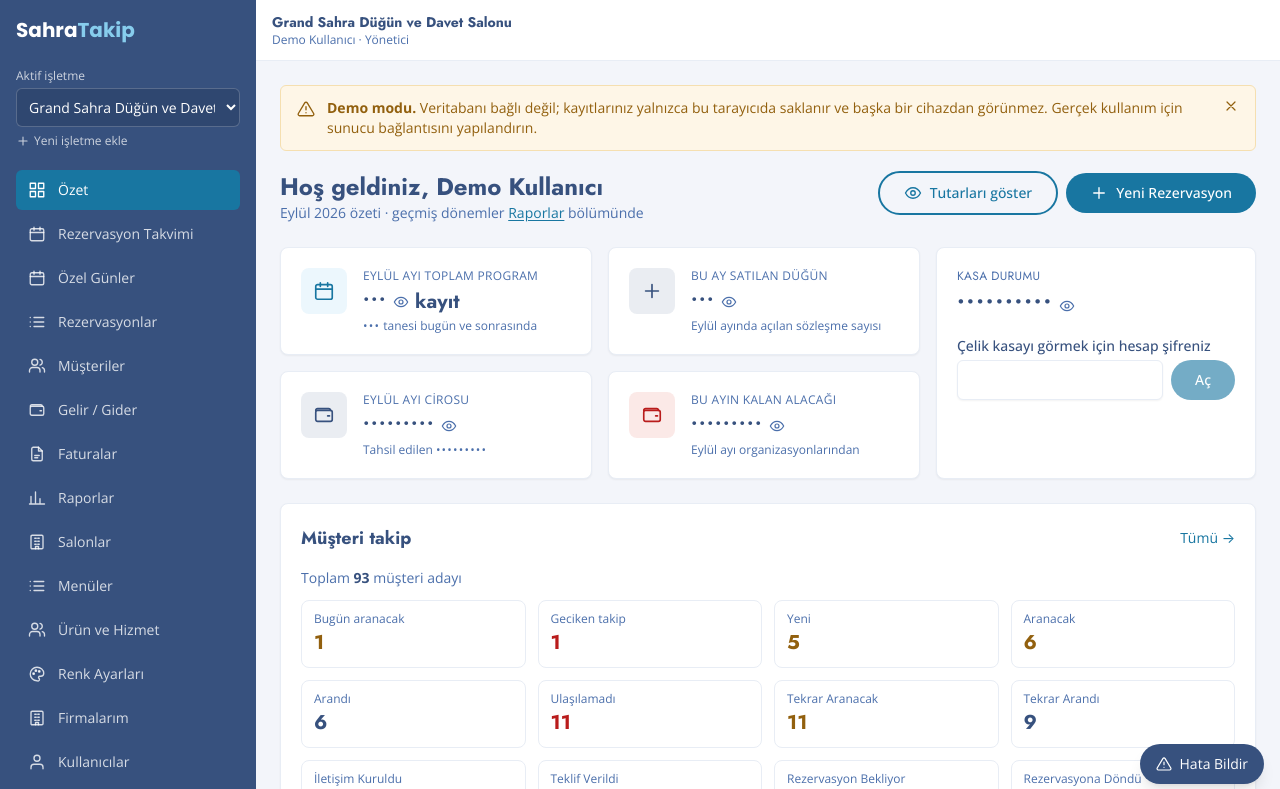
Özet ekranı › imleç üstüne gelince o tutar açılıyor
Expected: the heading "Hoş geldiniz, Demo Kullanıcı" is shown, [280,171,644,203]
Hover over the button named "Gizli tutar:" at (375, 302), box [363,287,387,316]
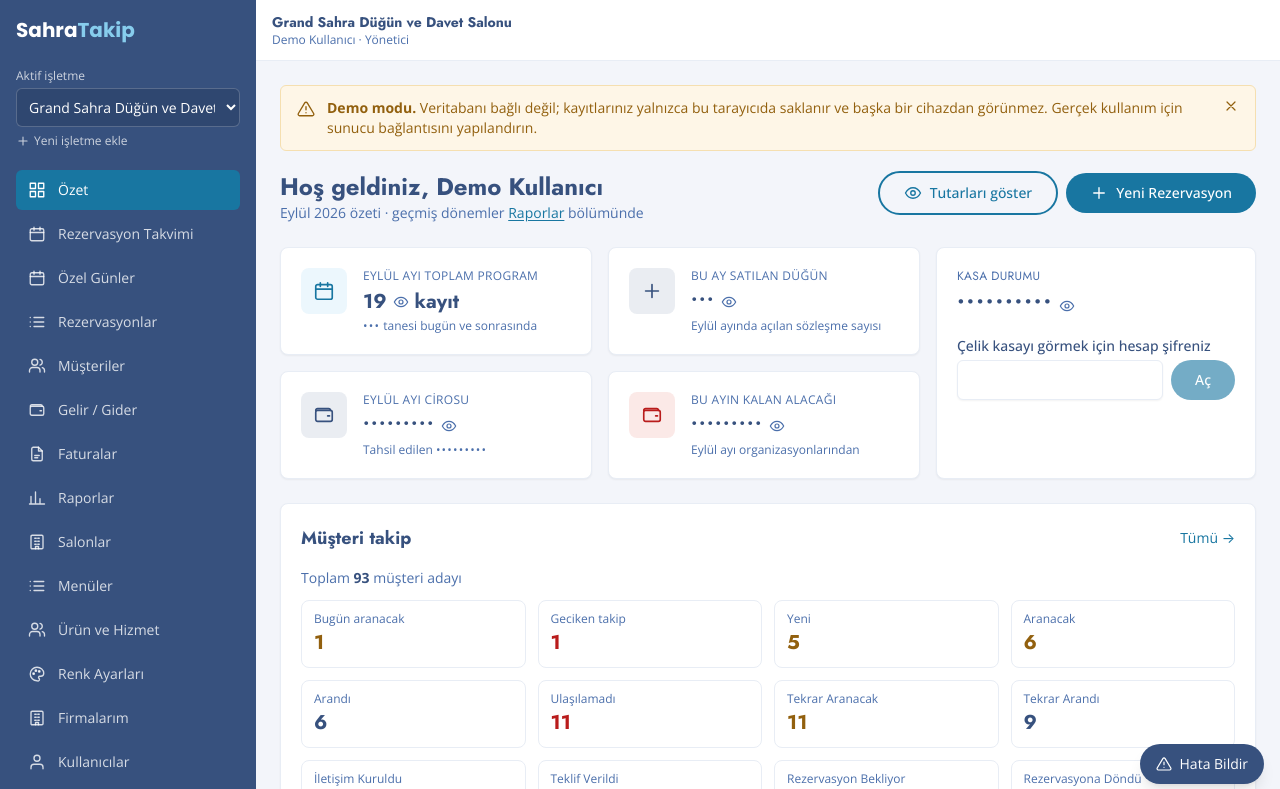
Expected: the button named "Gizli tutar:" reads "19", [363,287,387,316]
